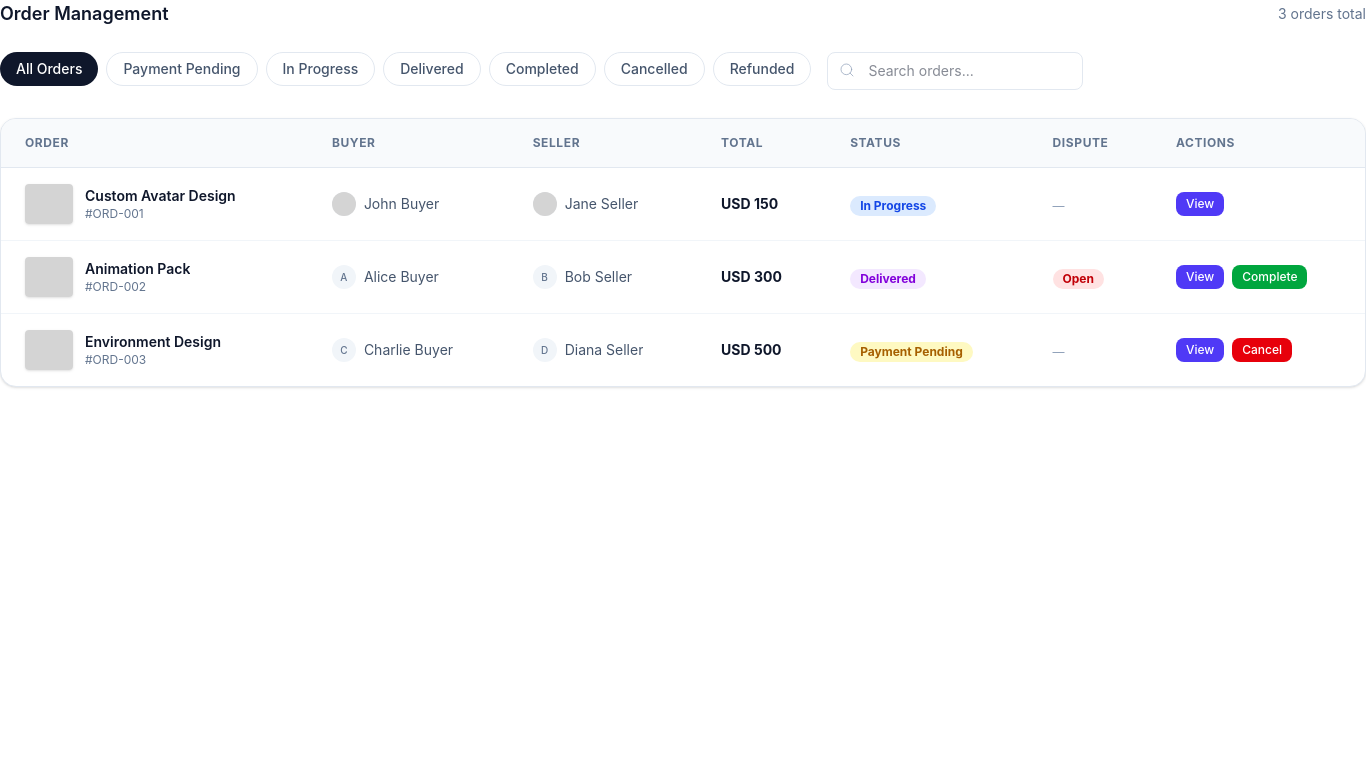
Test: AdminOrderManagement › should close modal when clicking the overlay
This screenshot has width=1366, height=768.
Click the button "View" in the row of "Custom Avatar Design" at (1200, 204), box top-left (1176, 192), bottom-right (1224, 216)
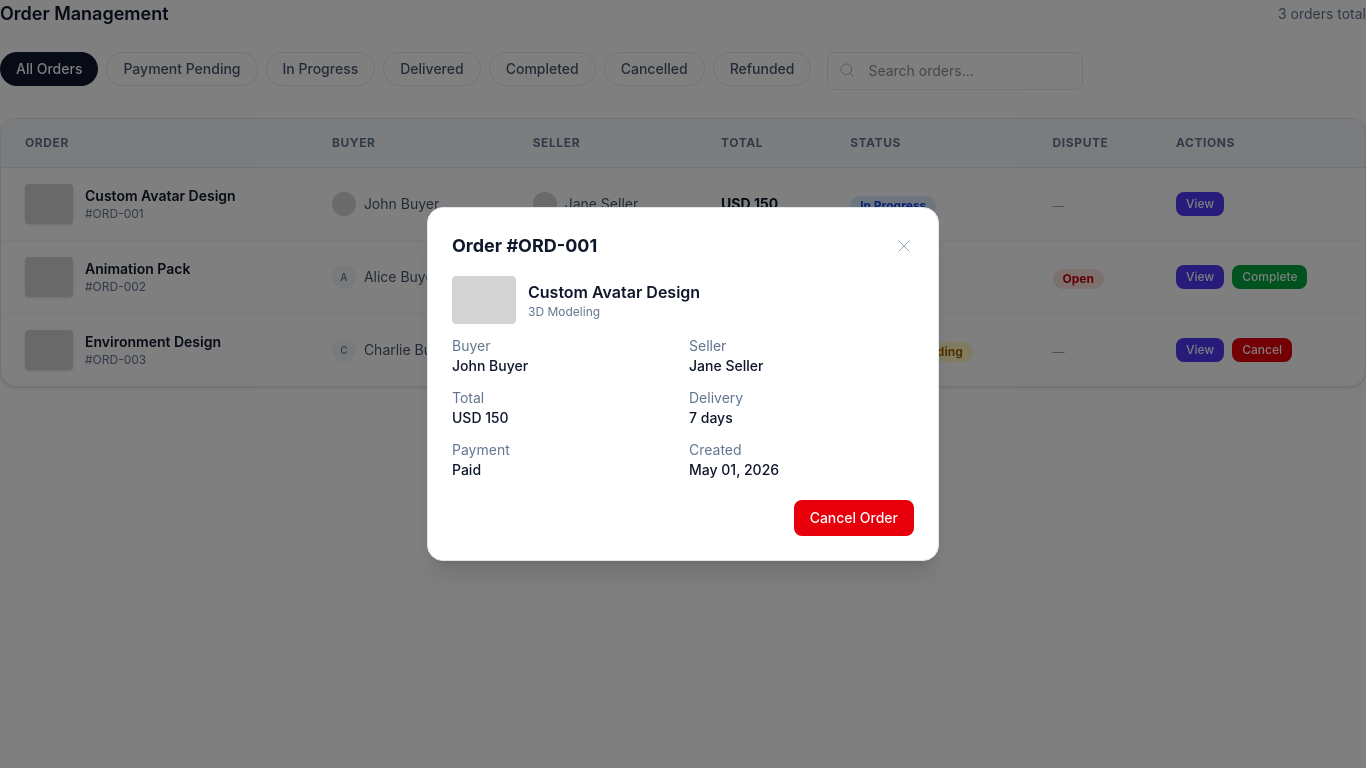
Expected: the heading "Order #ORD-001" is shown, top-left (452, 232), bottom-right (597, 260)
Expected: the element with class "inset-0" is shown
Click the element with class "inset-0" at (82, 384), box top-left (0, 0), bottom-right (1365, 767)
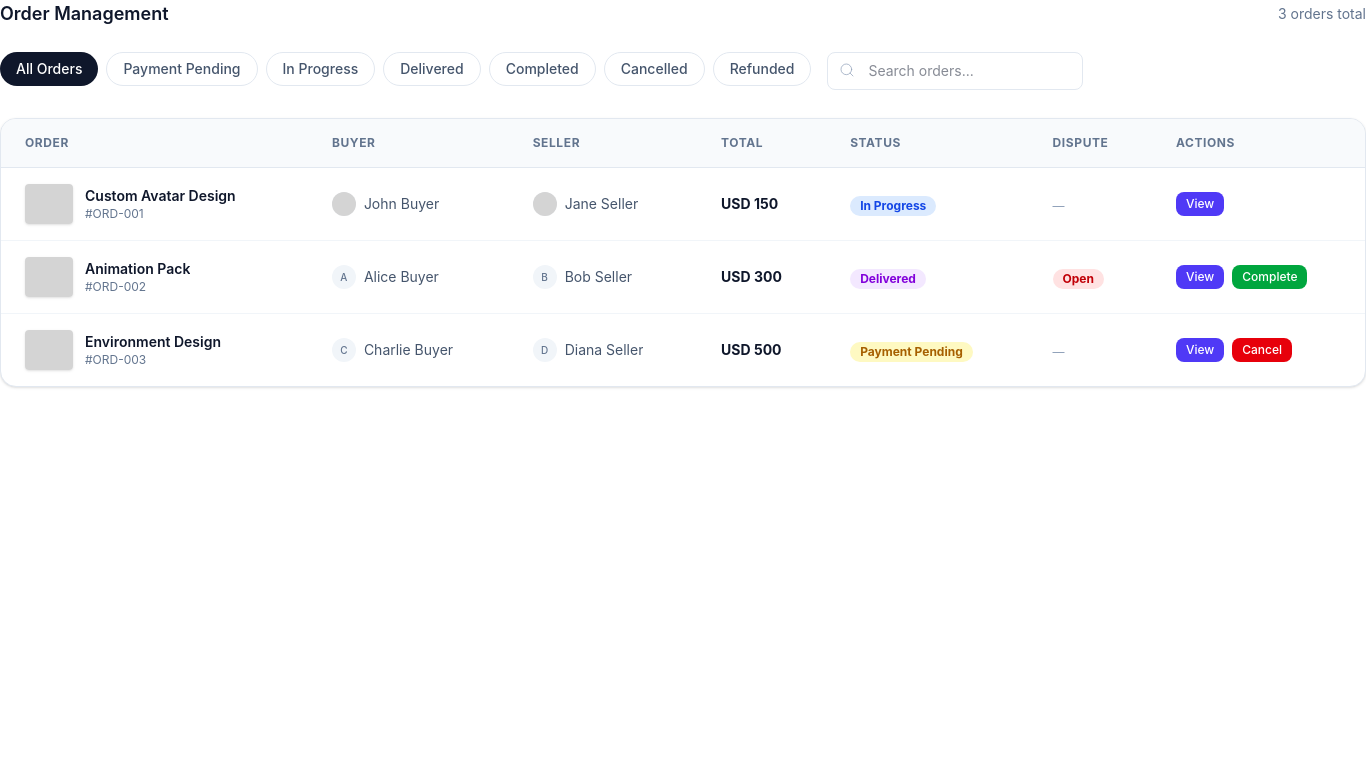
Expected: the heading "Order #ORD-001" is gone
